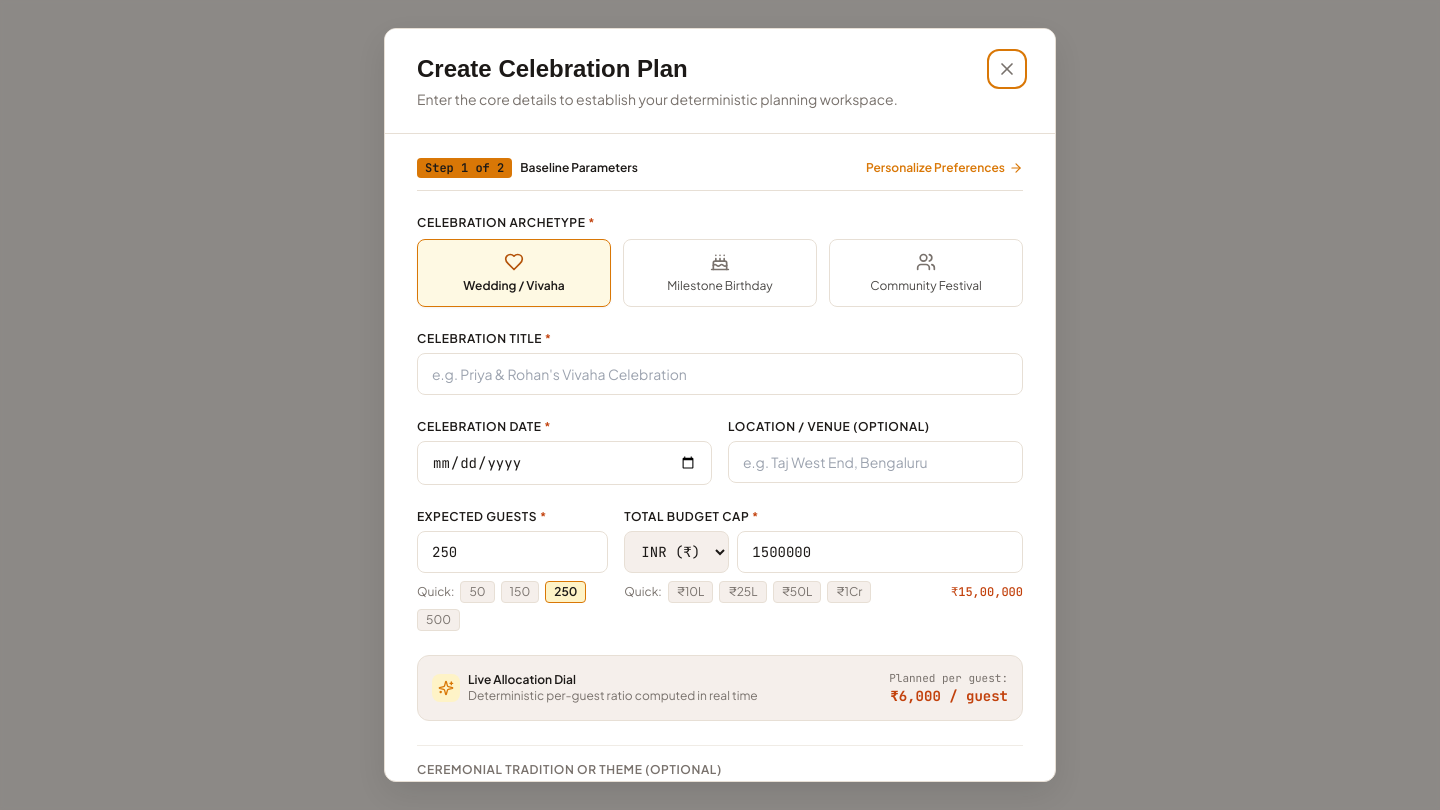
Test: EventCreateDialog Component › preserves manually edited guest count while updating untouched budget cap on archetype switch
// Manually edit guest count to 320
Replace the text in the number field labelled "Expected Guests *" with "320" at x=513, y=552, box [417, 531, 608, 573]
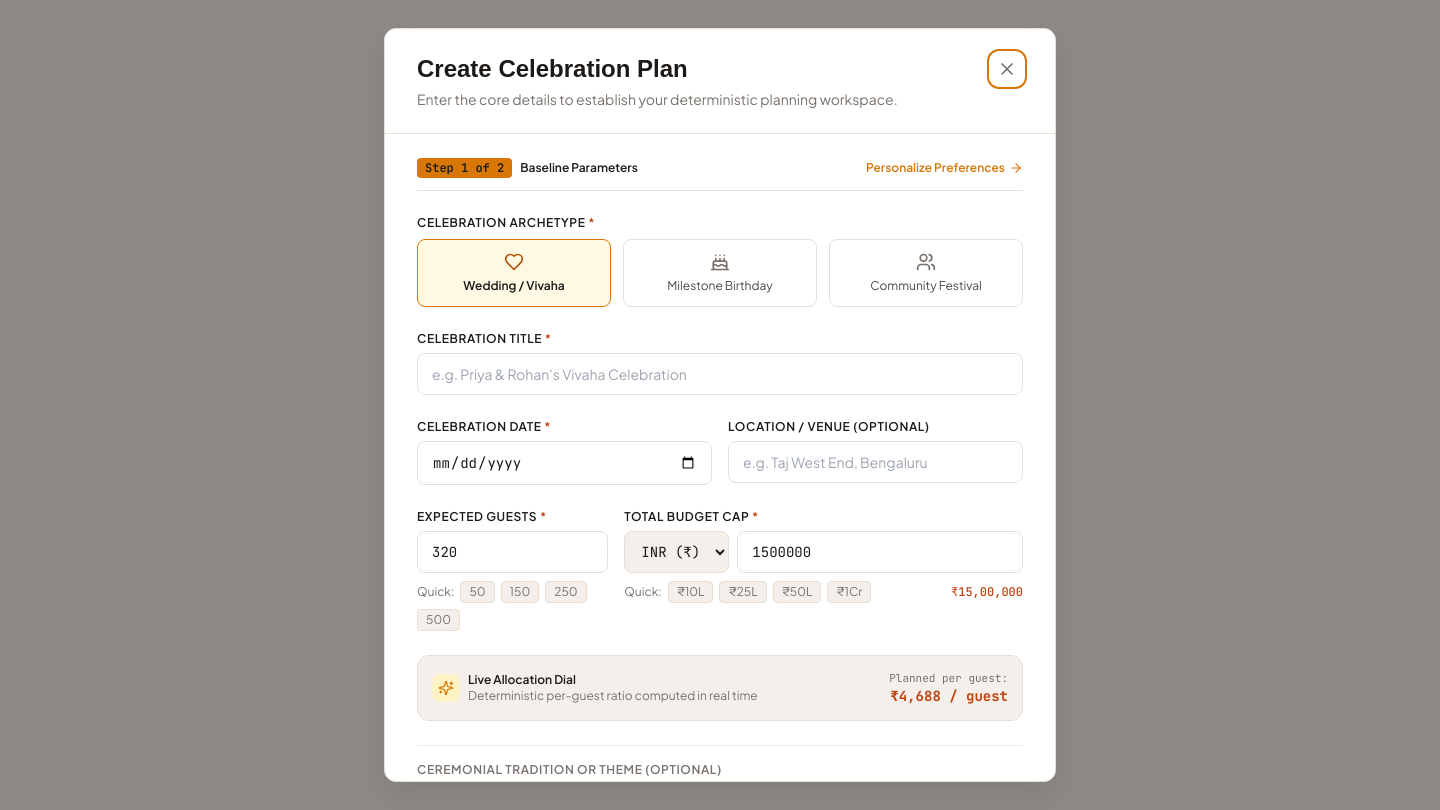
// Switch to Milestone Birthday: guest count stays 320, budget updates to birthday default (150000)
Click the button "Milestone Birthday" at x=720, y=273, box [623, 239, 817, 307]
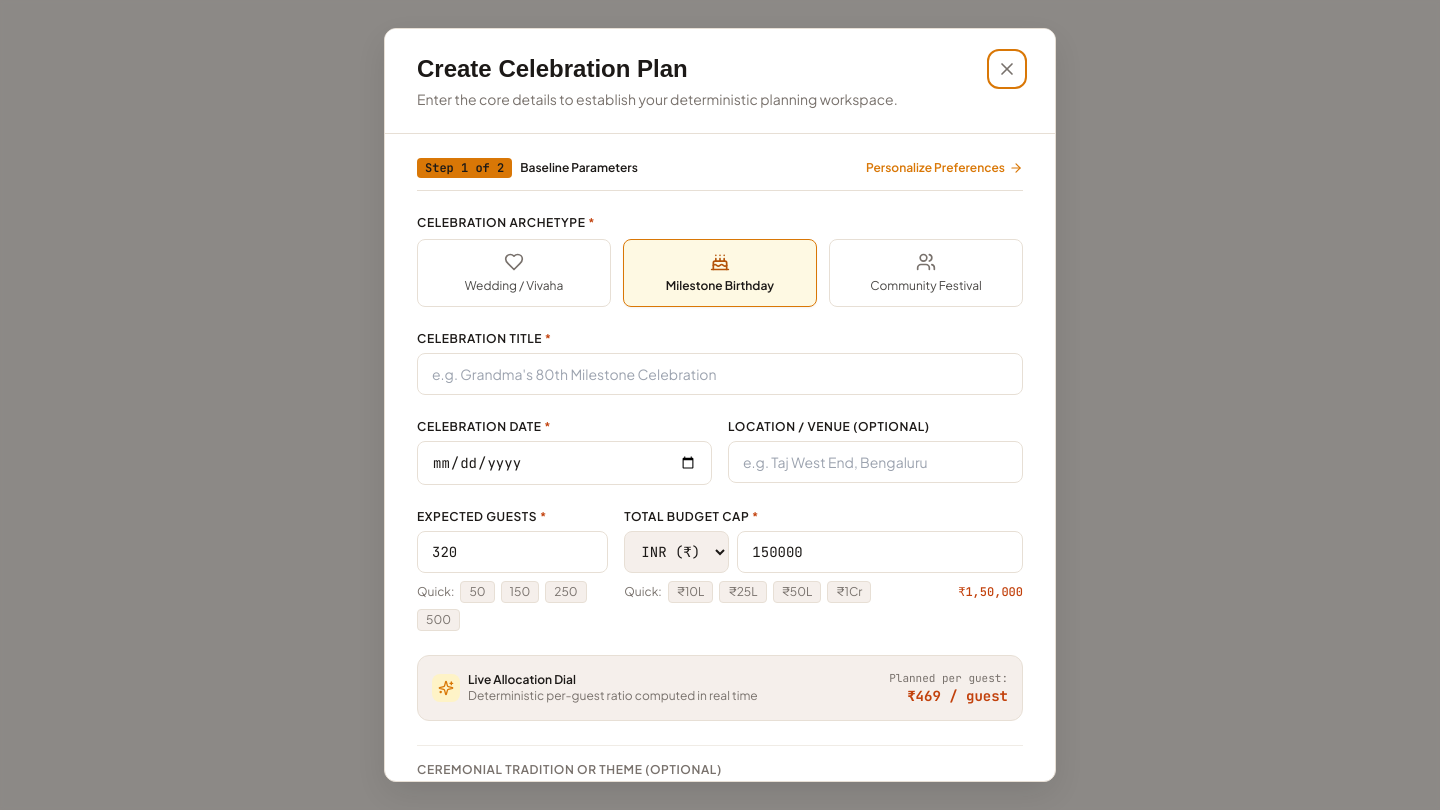
Result: the number field labelled "Total Budget Cap *" holds "150000" at [737, 531, 1023, 573]
// Switch to Community Festival: guest count still stays 320, budget updates to 500000
Click the button "Community Festival" at x=926, y=273, box [829, 239, 1023, 307]
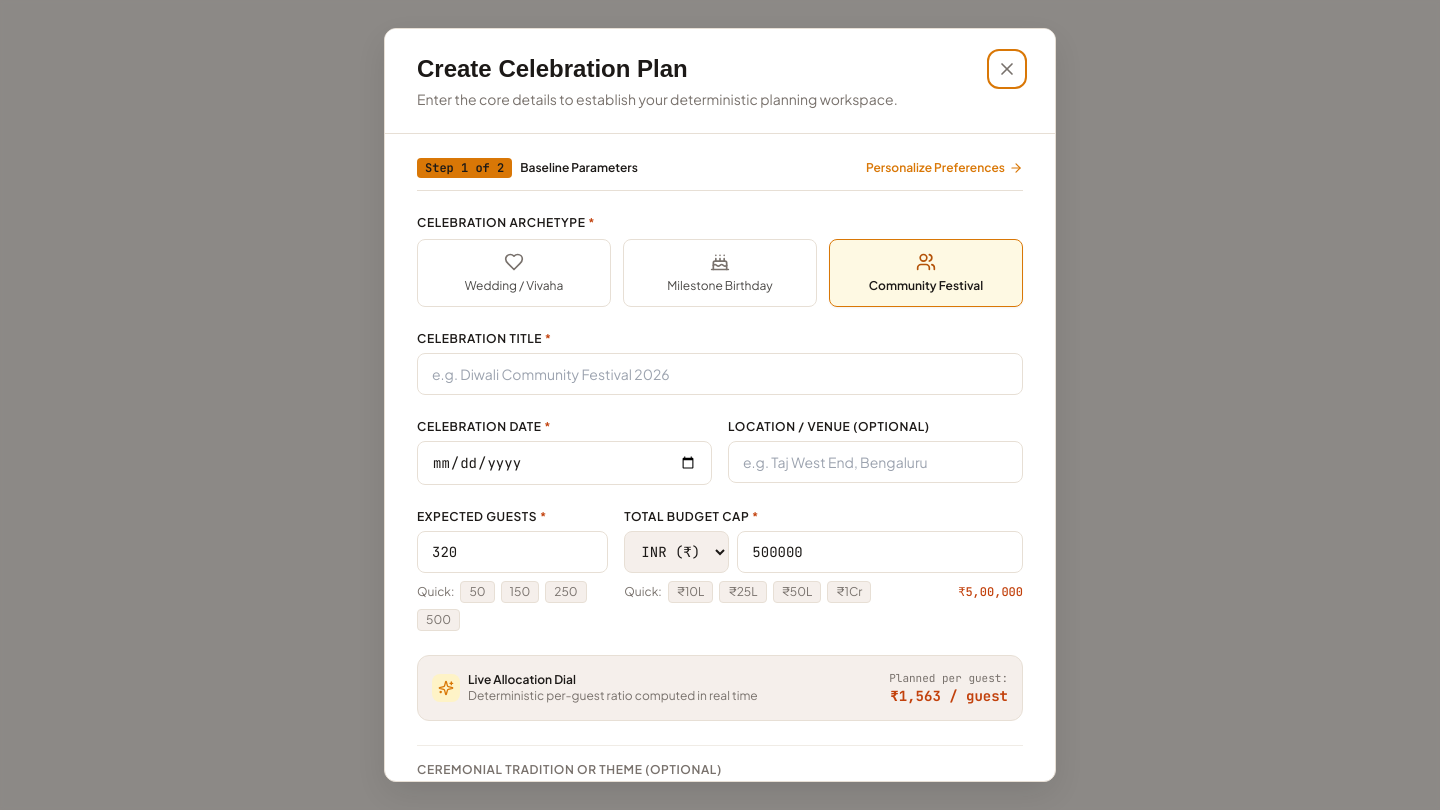
Result: the number field labelled "Total Budget Cap *" holds "500000" at [737, 531, 1023, 573]
